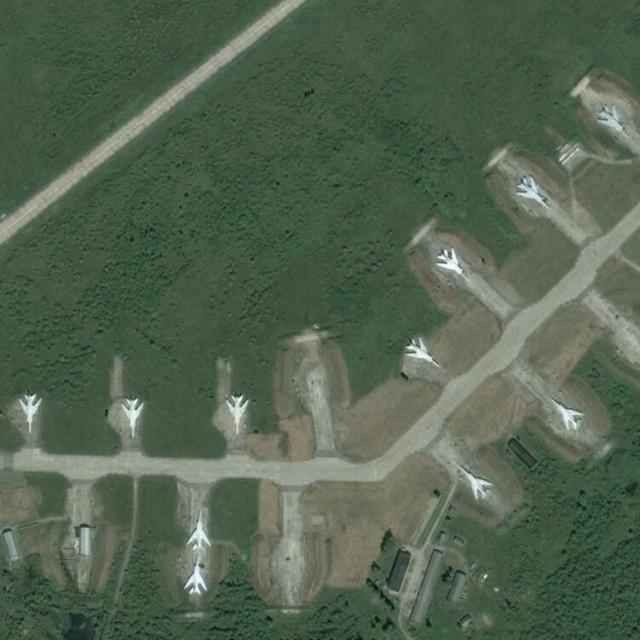fighter jet: (542, 394, 604, 441), (181, 549, 218, 615), (449, 453, 493, 506), (398, 340, 450, 378), (222, 386, 255, 442), (432, 242, 474, 280), (513, 179, 559, 213), (595, 102, 640, 136), (20, 389, 46, 434), (189, 508, 214, 552), (124, 395, 148, 436)
